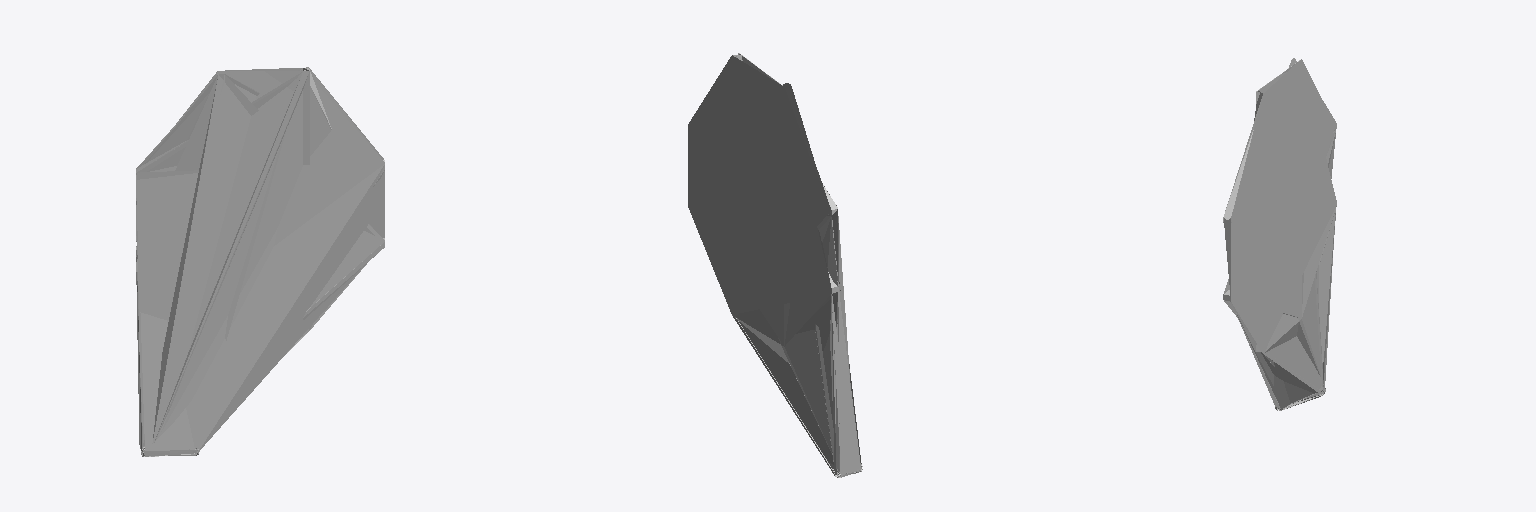
The model's file is Door obj.obj.
3 views of the same model, side by side, from view 1: azimuth 30°, elevation 25°; view 2: azimuth 150°, elevation 25°; view 3: azimuth 270°, elevation 25° (orthographic).
Parts seen in each view (by area): view 1: Box012, Cylinder001, Plane002, Box011; view 2: Plane002, Box012, Box011, Cylinder001; view 3: Plane002, Box011, Box012, Cylinder001.
Part boxes in pixels (left/top/right/bottom): Box012: left=136, top=67, right=384, bottom=456; Cylinder001: left=136, top=68, right=380, bottom=446; Plane002: left=136, top=68, right=384, bottom=456; Box011: left=136, top=68, right=384, bottom=456; Plane002: left=688, top=55, right=856, bottom=472; Box012: left=733, top=53, right=862, bottom=477; Box011: left=688, top=55, right=840, bottom=345; Cylinder001: left=688, top=57, right=837, bottom=340; Plane002: left=1224, top=58, right=1335, bottom=385; Box011: left=1224, top=59, right=1335, bottom=362; Box012: left=1223, top=60, right=1336, bottom=410; Cylinder001: left=1223, top=92, right=1335, bottom=366.
Bounding box in the file's own units: 53.47 × 90.2 × 25.13.